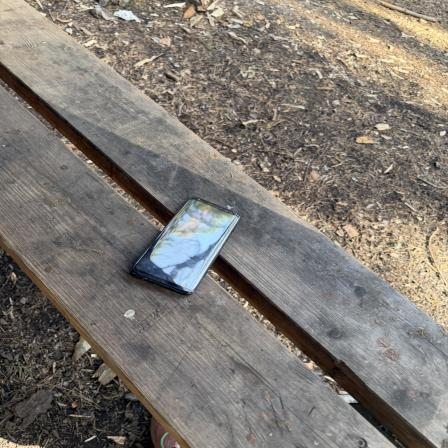phone: (136, 195, 240, 296)
